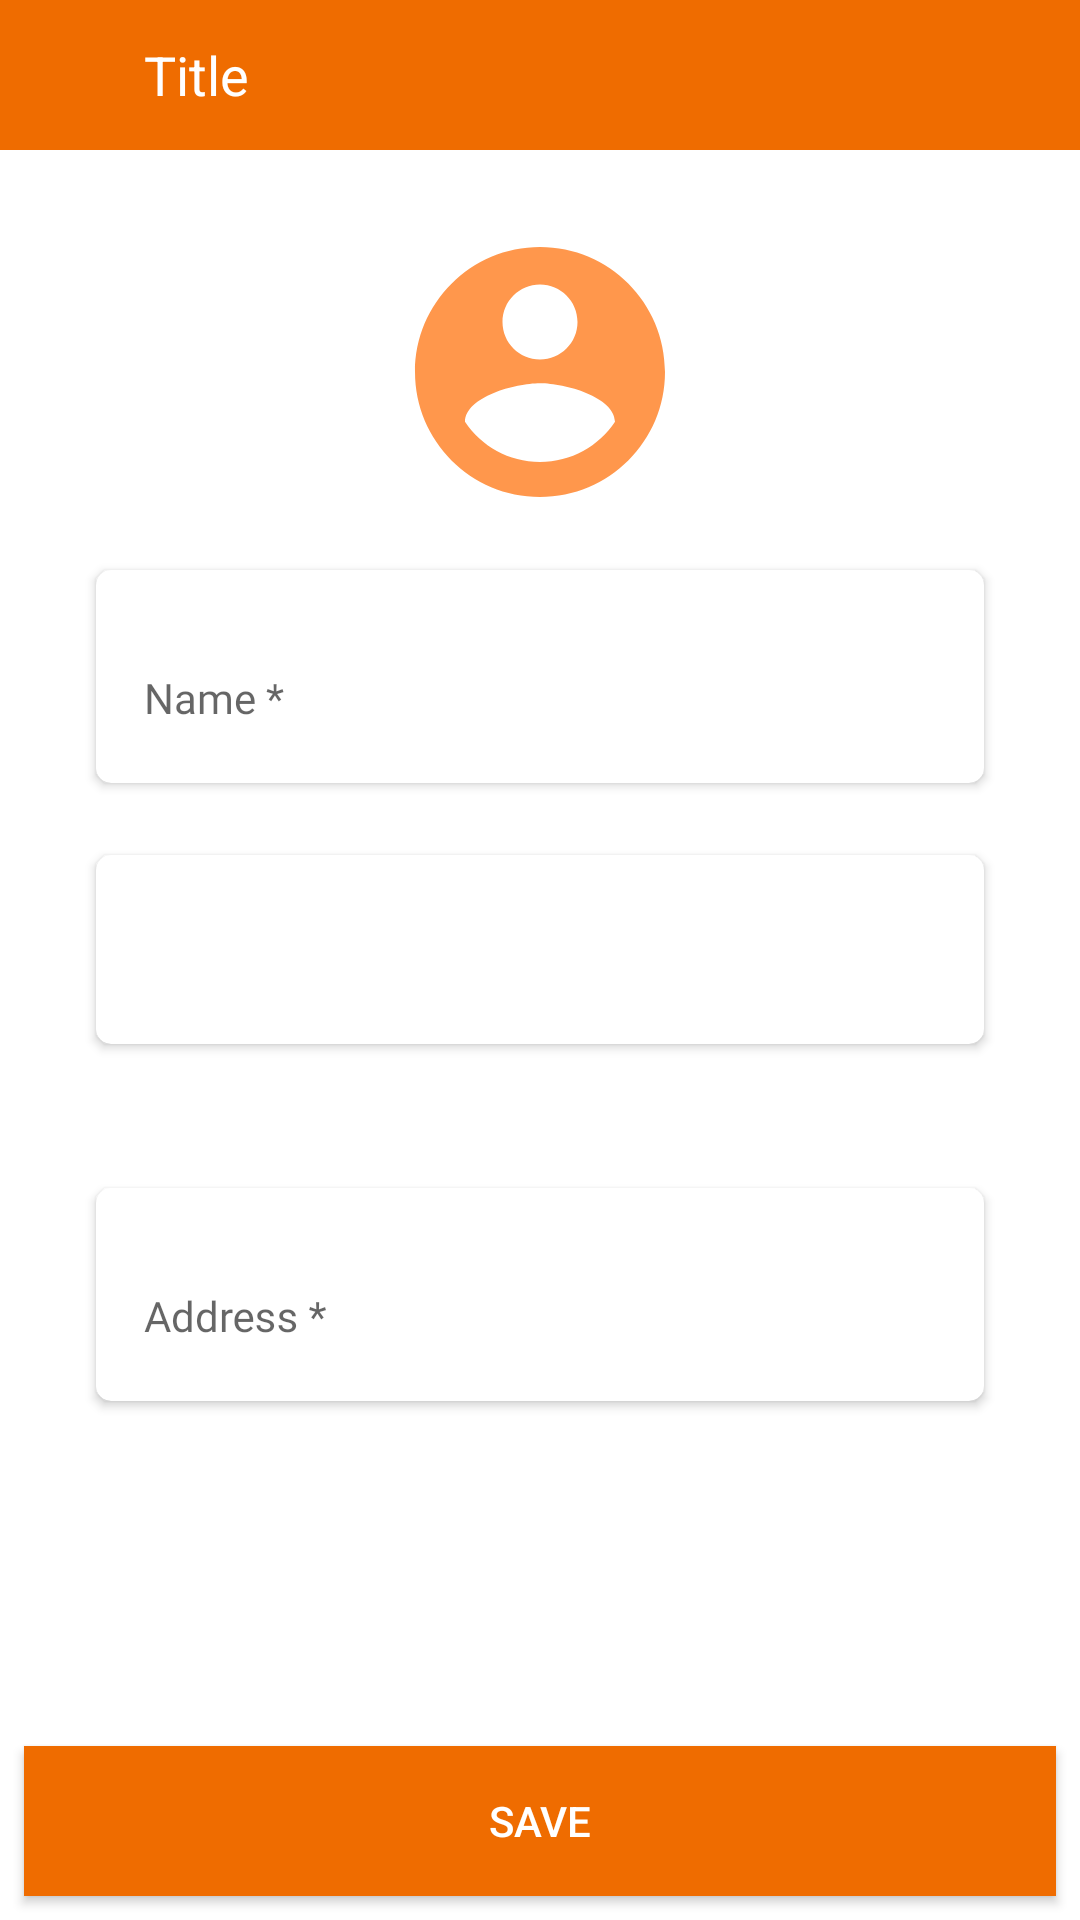

Screen size 1080w x 1920h. Icon name, then its box in pixels as rect(x1, y1, x2, y2):
account circle: rect(415, 247, 665, 497)
